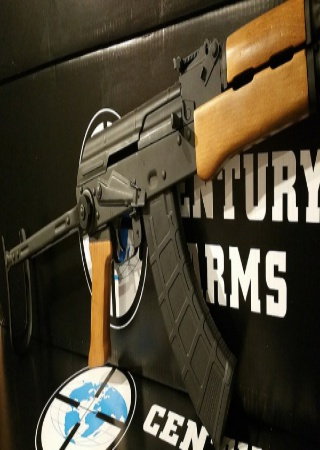rifle: (10, 1, 317, 449)
